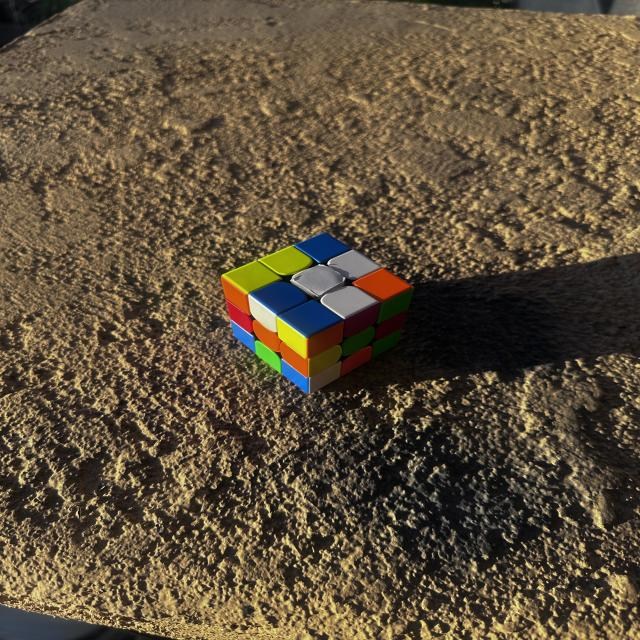sticker: (276, 300, 344, 336), (322, 283, 383, 317), (353, 268, 413, 302), (258, 243, 314, 276), (294, 231, 352, 262), (247, 282, 306, 312), (223, 260, 280, 290), (293, 264, 348, 294), (329, 249, 377, 278)
